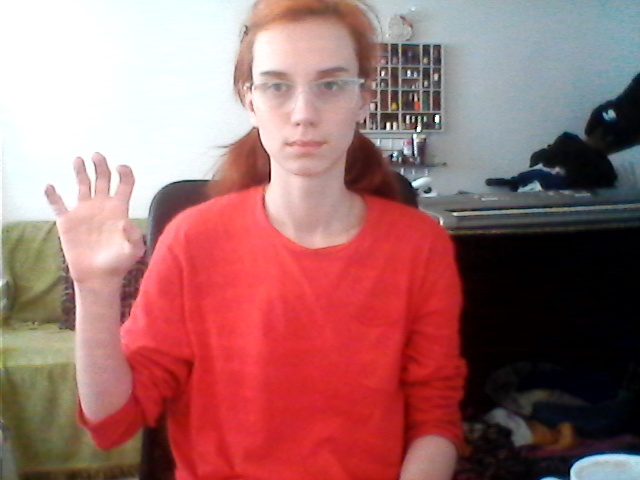budova: (25, 153, 167, 286)
